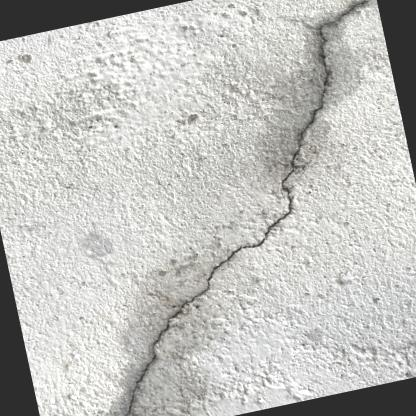crack: (122, 0, 367, 416)
